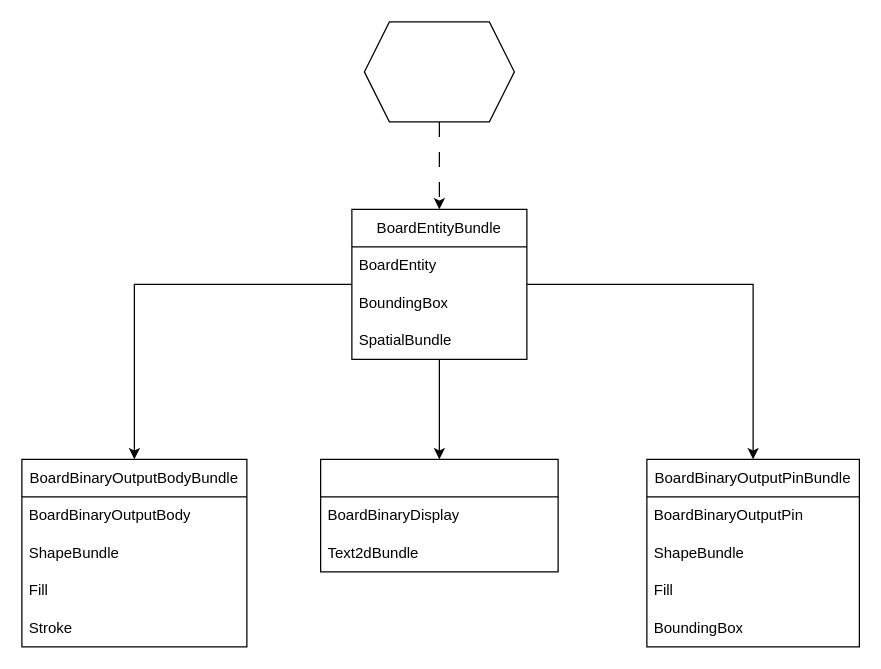
Some shapes in this 881 by 669 pixel diagram are drawn without their labels. Here are the shapes that lost their labels. From the top down, the box of each, then its label:
(363, 21, 514, 122): Model BoardBinaryOutput
(319, 458, 558, 572): BoardBinaryDisplayBundle
